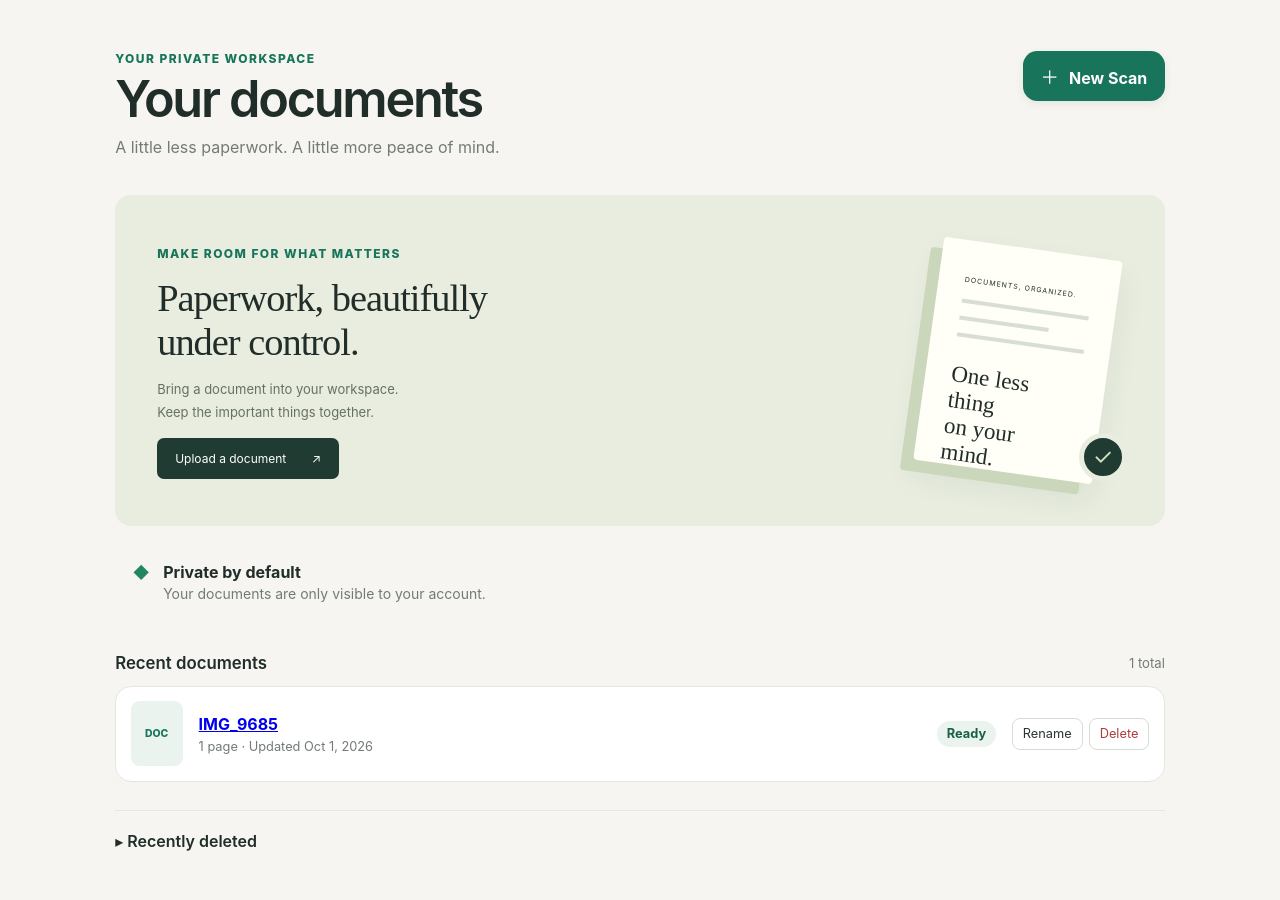
DocumentListComponent › cancels a rename with Escape
Click the button "Rename": (1047, 734) [1012,718,1083,750]
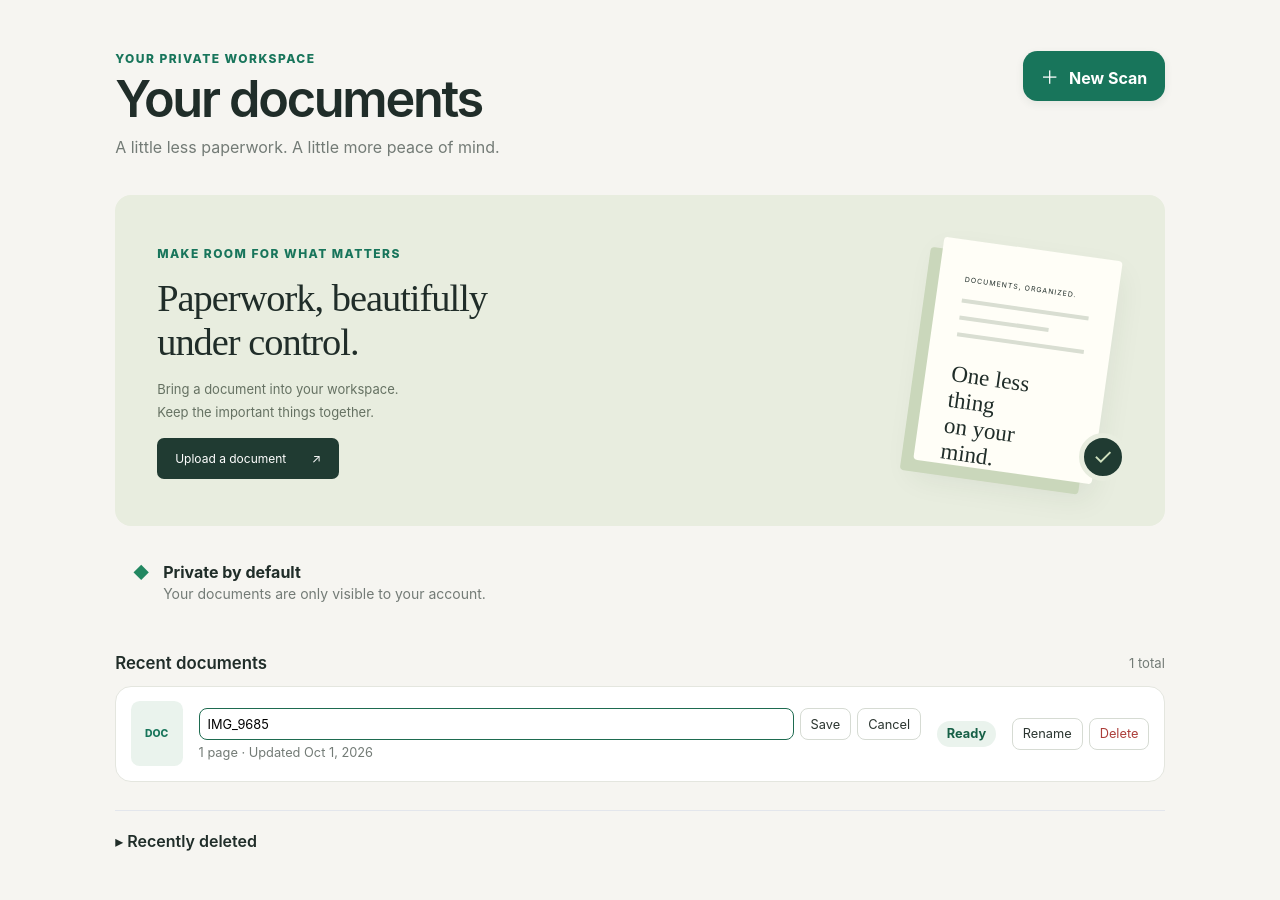
Press Escape in the field named "Rename document", box [199,708,794,740]
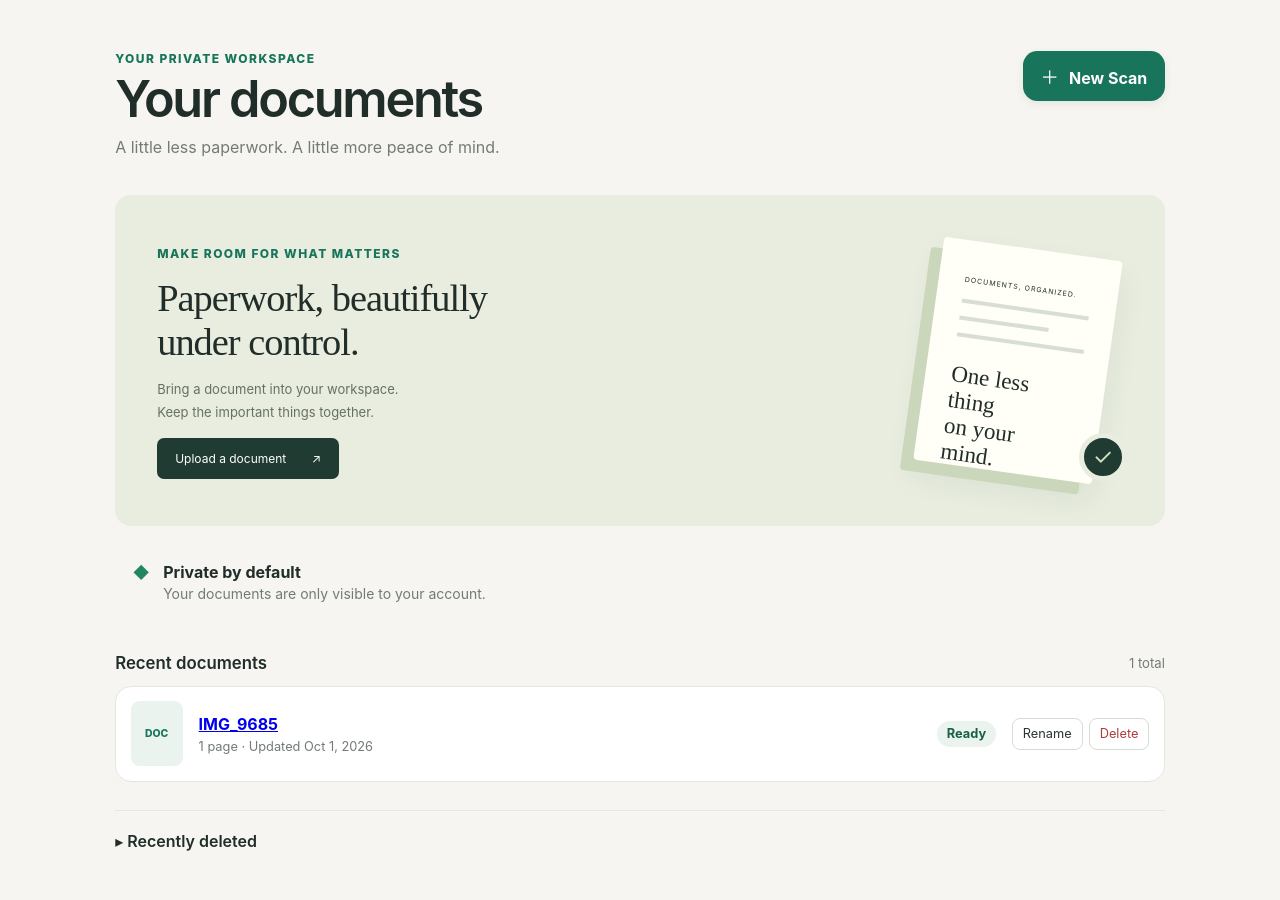
Result: the text "IMG_9685" is shown at [199,714,278,734]
